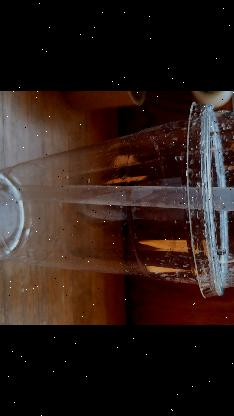Others: (0, 99, 234, 296), (183, 103, 234, 300), (7, 183, 234, 216)
